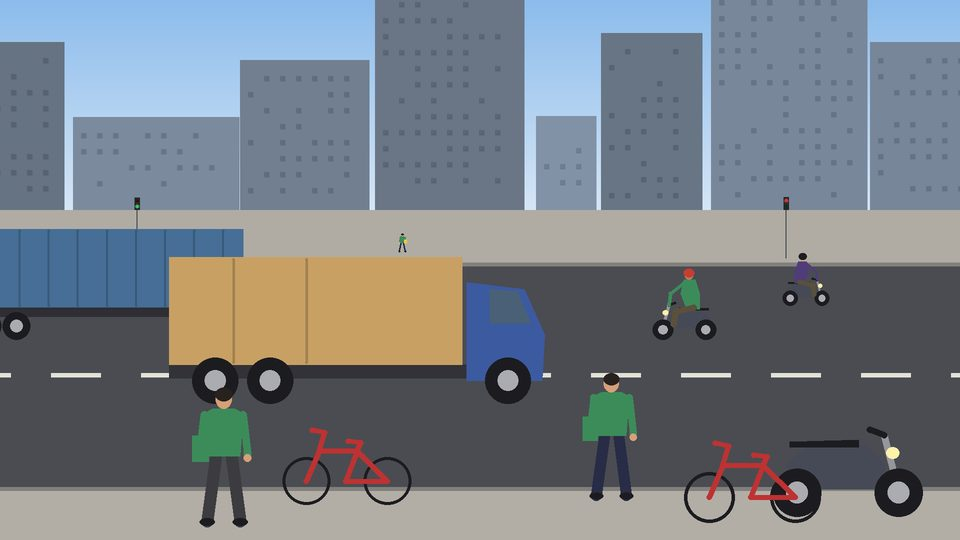Bicycle: (684, 441, 821, 523), (283, 428, 412, 505)
Motorcycle: (780, 427, 923, 517)
Motorcyclist: (653, 269, 716, 340), (783, 253, 830, 306)
Other vehicle: (0, 229, 244, 340)
Pedestrian: (192, 388, 252, 528), (583, 373, 637, 501)
Truck: (169, 257, 545, 404)
